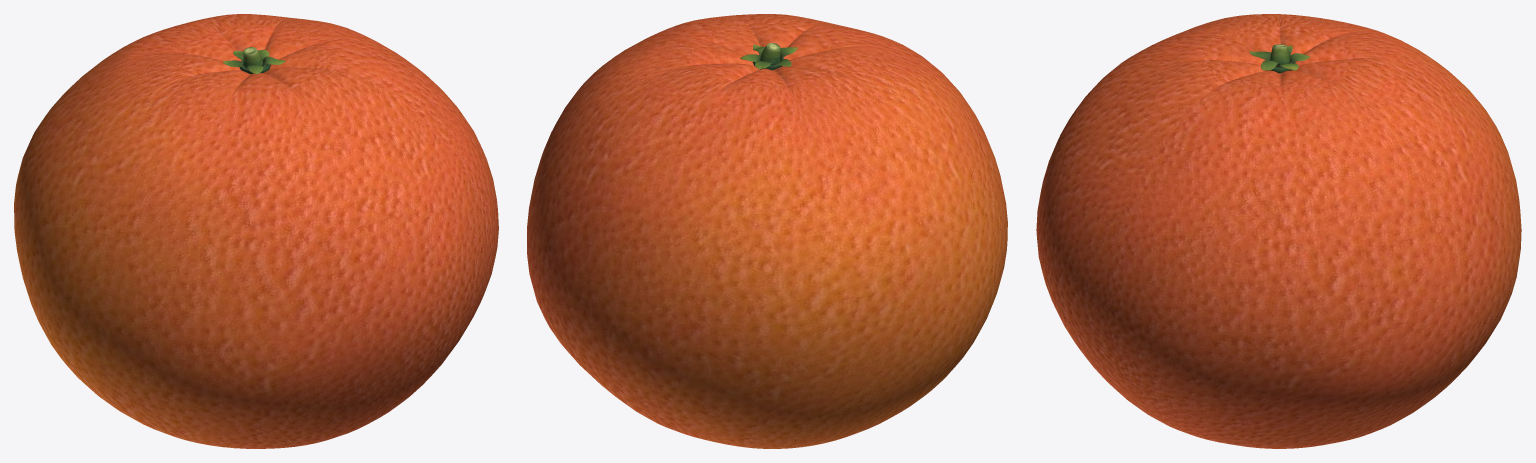
The model's file is orange_whole.fbx.
The picture shows the model from 3 angles, left to right: view 1: azimuth 30°, elevation 25°; view 2: azimuth 150°, elevation 25°; view 3: azimuth 270°, elevation 25°; orthographic projection.
Parts seen in each view (by area): view 1: orange_whole; view 2: orange_whole; view 3: orange_whole.
Part boxes in pixels (bbox=[...]): orange_whole: bbox=[14, 14, 498, 448]; orange_whole: bbox=[527, 14, 1007, 448]; orange_whole: bbox=[1036, 14, 1521, 448].
Bounding box in the file's own units: 50.1 × 41.39 × 50.16.
1 material, 1 textured.
